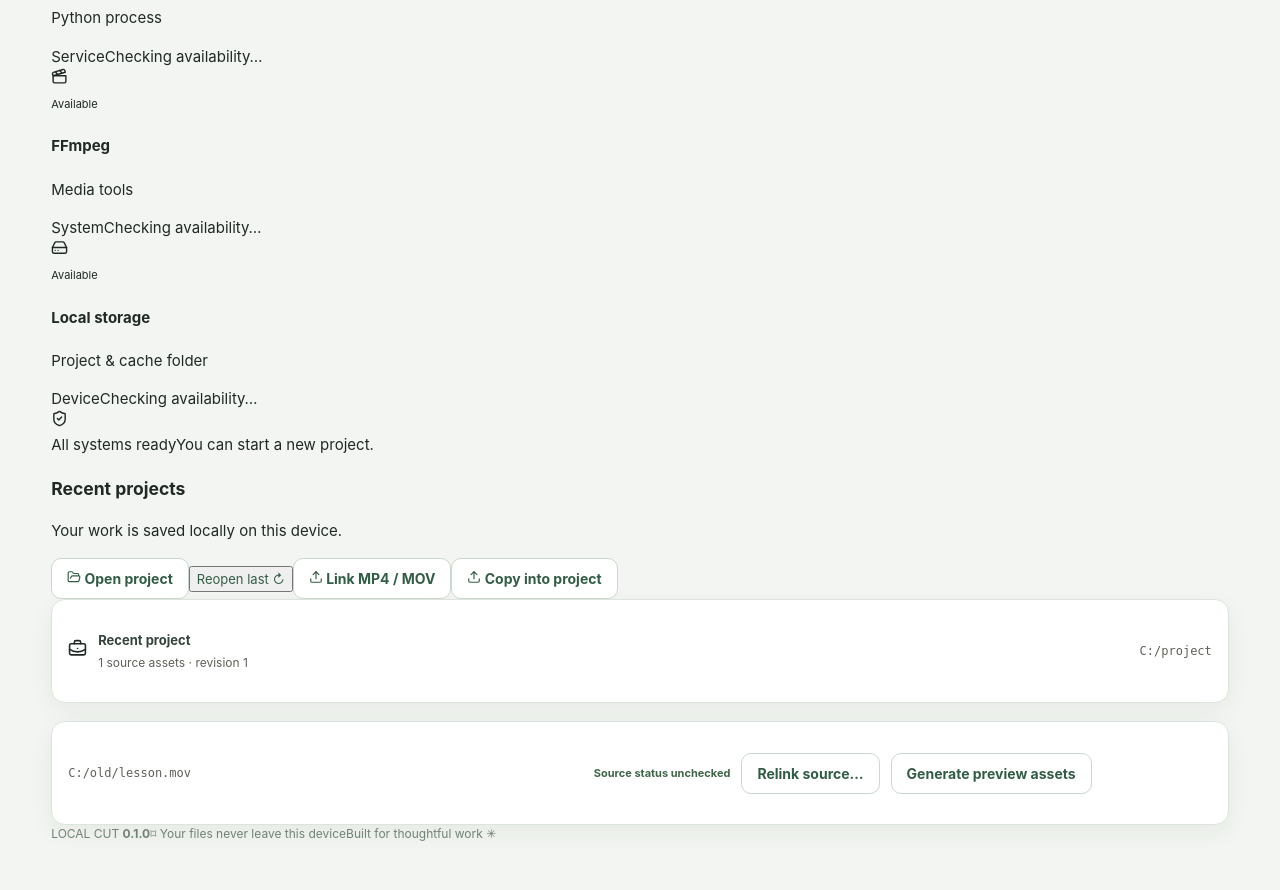
Test: desktop startup UI › requires explicit confirmation before relinking to changed media
(page scrolled)
Click the button "Relink source…" at [810, 773], box [741,753,880,794]
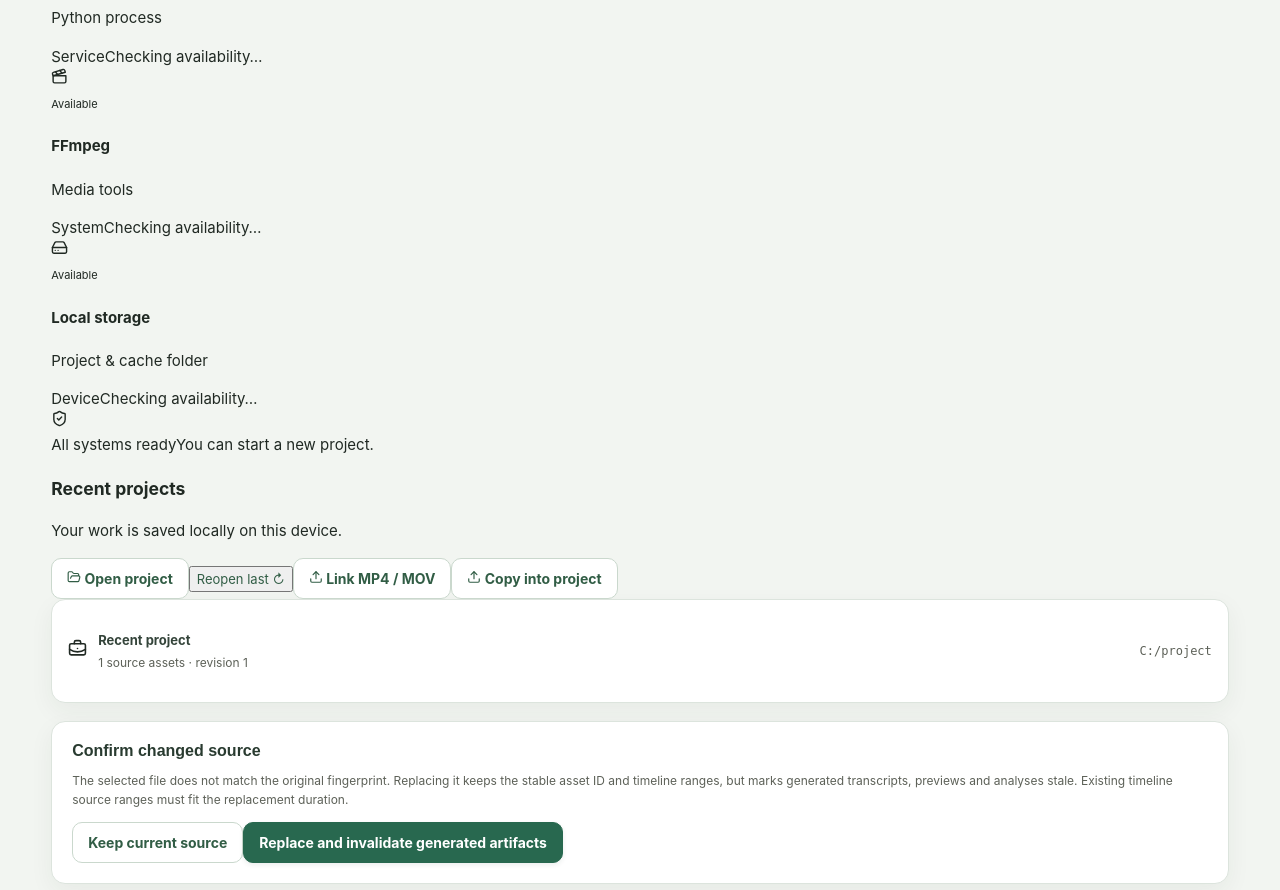
Now the message shows "does not match the original fingerprint", box [72,773,1173,807]
Click the button "Replace and invalidate generated artifacts" at [403, 842], box [243,822,563,863]
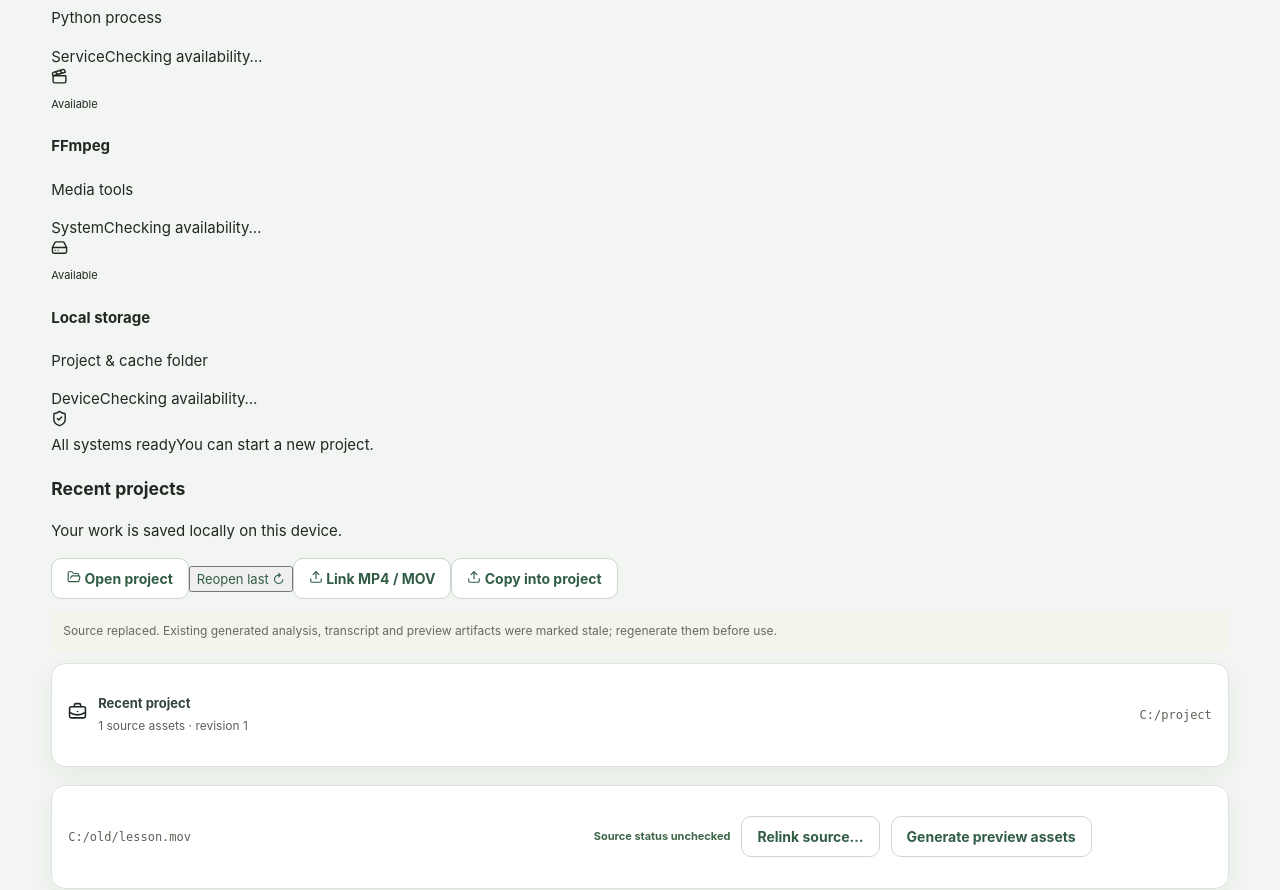
Now the text "marked stale" is shown, box [63,623,777,638]
